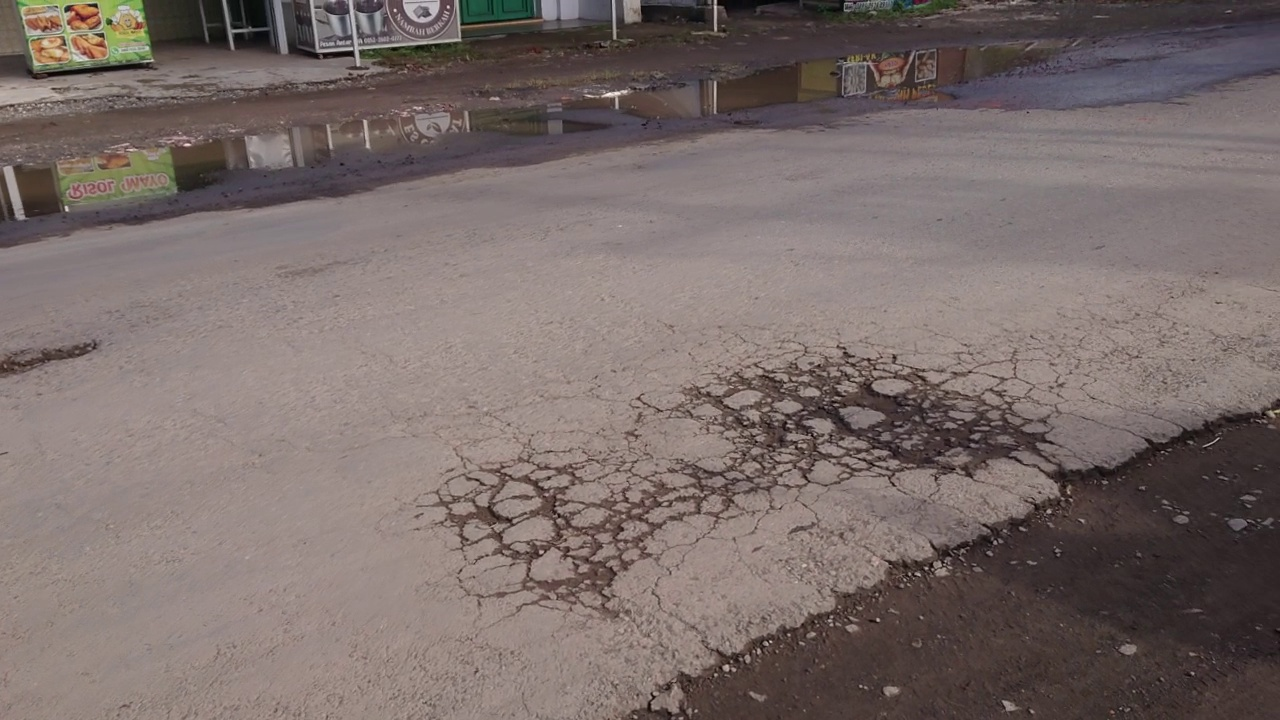Retak: (448, 355, 1021, 605)
